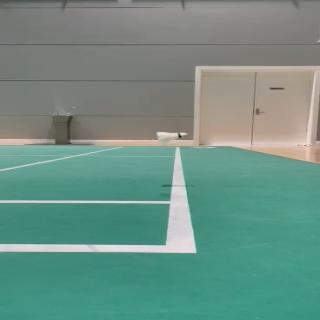Shuttle: (156, 132, 188, 144)
